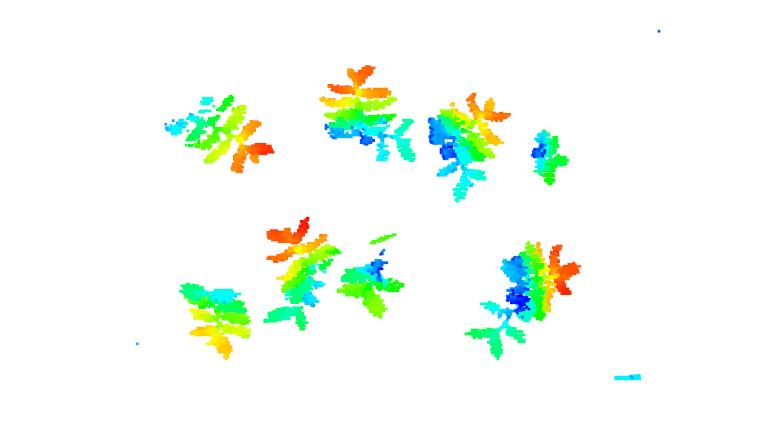chickpea: (463, 239, 579, 366), (322, 62, 416, 168), (159, 92, 276, 175), (257, 212, 336, 334), (432, 90, 513, 202), (336, 226, 404, 323), (175, 280, 257, 357), (531, 124, 570, 191)
